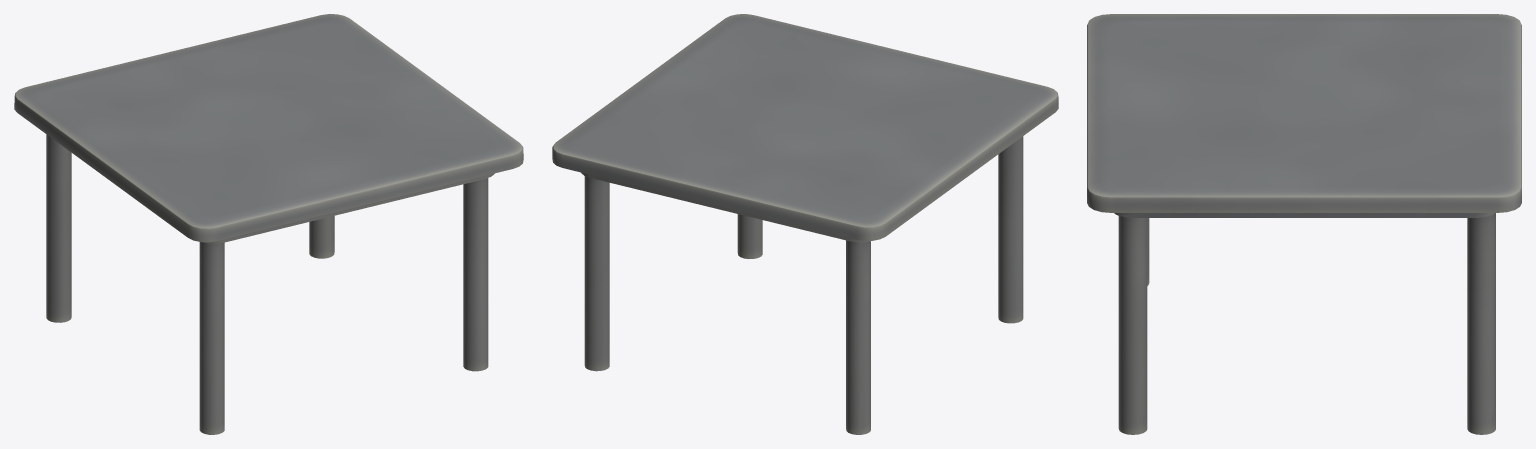
Rendered from Table3.fbx.
The picture shows the model from 3 angles, left to right: view 1: azimuth 30°, elevation 25°; view 2: azimuth 150°, elevation 25°; view 3: azimuth 270°, elevation 25°; orthographic projection. The views are drawn at different scales.
Parts seen in each view (by area): view 1: Table3; view 2: Table3; view 3: Table3.
Boxes of the visible parts, <box> form: Table3: <box>14,14,523,434</box>; Table3: <box>552,14,1058,434</box>; Table3: <box>1087,14,1521,434</box>.
Bounding box in the file's own units: 378 × 241 × 378.
